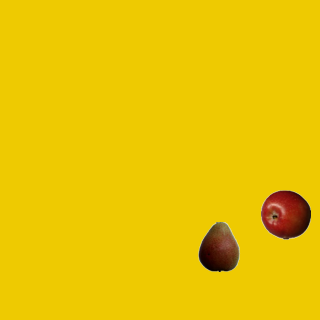Apple Braeburn: (260, 189, 310, 239)
Pear Forelle: (193, 221, 243, 271)
